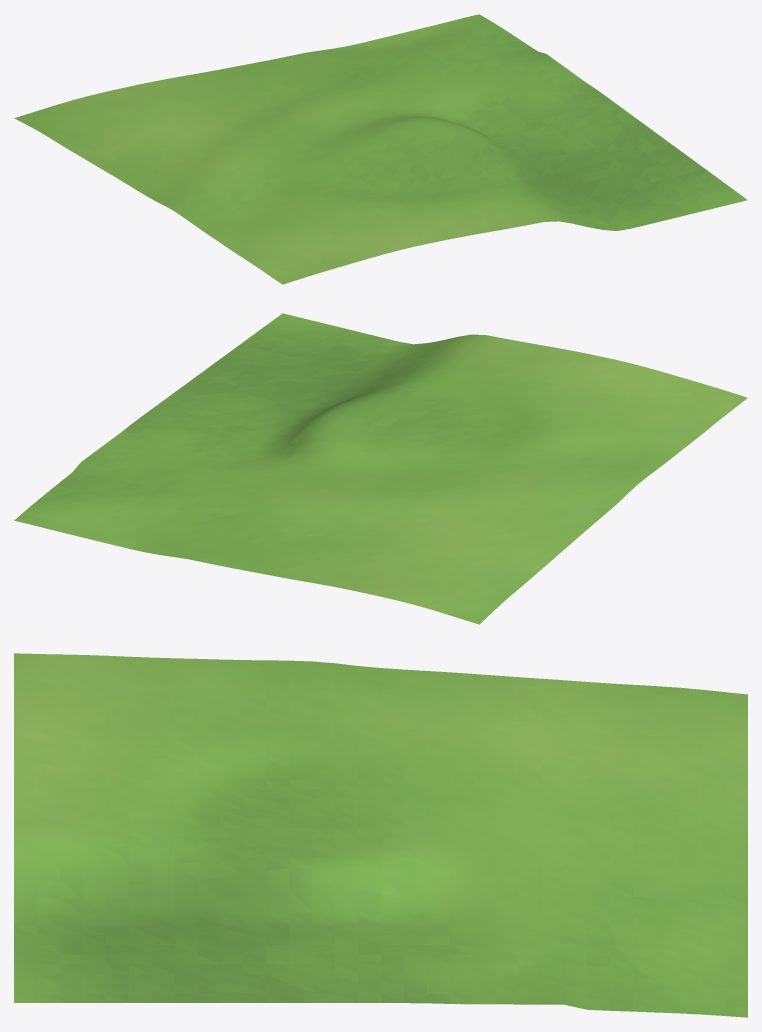
Rendered from terrain_r1_c1.glb.
3 renders of one model, top to bottom at view 1: azimuth 30°, elevation 25°; view 2: azimuth 150°, elevation 25°; view 3: azimuth 270°, elevation 25°, orthographic. The views are drawn at different scales.
Visible parts, largest first — view 1: terrain_r1_c1; view 2: terrain_r1_c1; view 3: terrain_r1_c1.
Boxes of the visible parts, bbox=[...] form: terrain_r1_c1: bbox=[14, 14, 747, 284]; terrain_r1_c1: bbox=[14, 313, 747, 624]; terrain_r1_c1: bbox=[14, 653, 747, 1017].
Bounding box in the file's own units: 128 × 12.02 × 128.
1 material, 1 textured.
